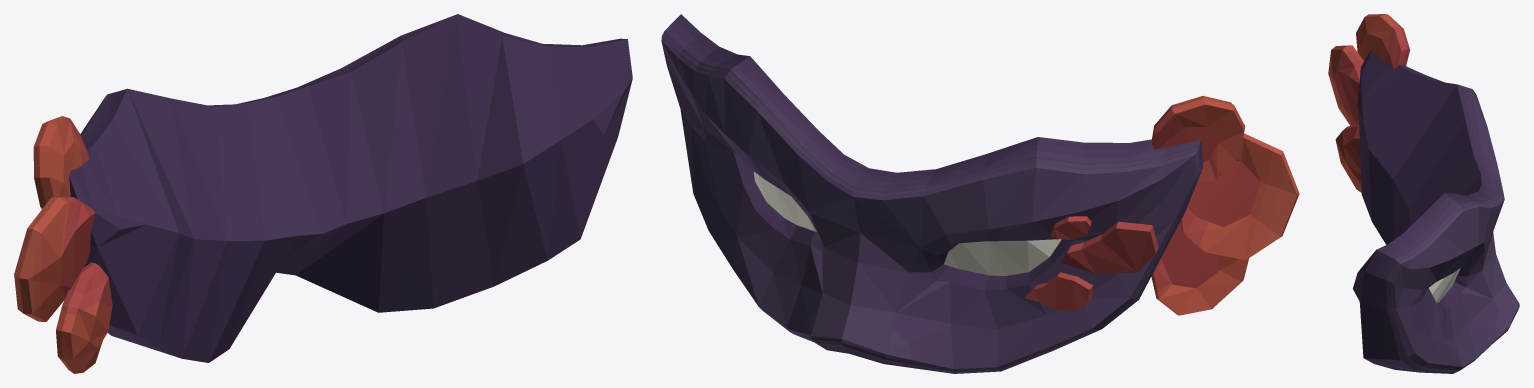
The model's file is CharSkyKid_Mask_RosePetals.glb.
The picture shows the model from 3 angles, left to right: view 1: azimuth 30°, elevation 25°; view 2: azimuth 150°, elevation 25°; view 3: azimuth 270°, elevation 25°; orthographic projection. The views are drawn at different scales.
Visible parts, largest first — view 1: CharSkyKid_Mask_RosePetals; view 2: CharSkyKid_Mask_RosePetals; view 3: CharSkyKid_Mask_RosePetals.
Part boxes in pixels (bbox=[...]): CharSkyKid_Mask_RosePetals: bbox=[14, 14, 632, 373]; CharSkyKid_Mask_RosePetals: bbox=[661, 14, 1299, 373]; CharSkyKid_Mask_RosePetals: bbox=[1328, 14, 1519, 373].
Size of the model in its own units: 2.81 by 1.3 by 1.02.
1 material, 1 textured.
